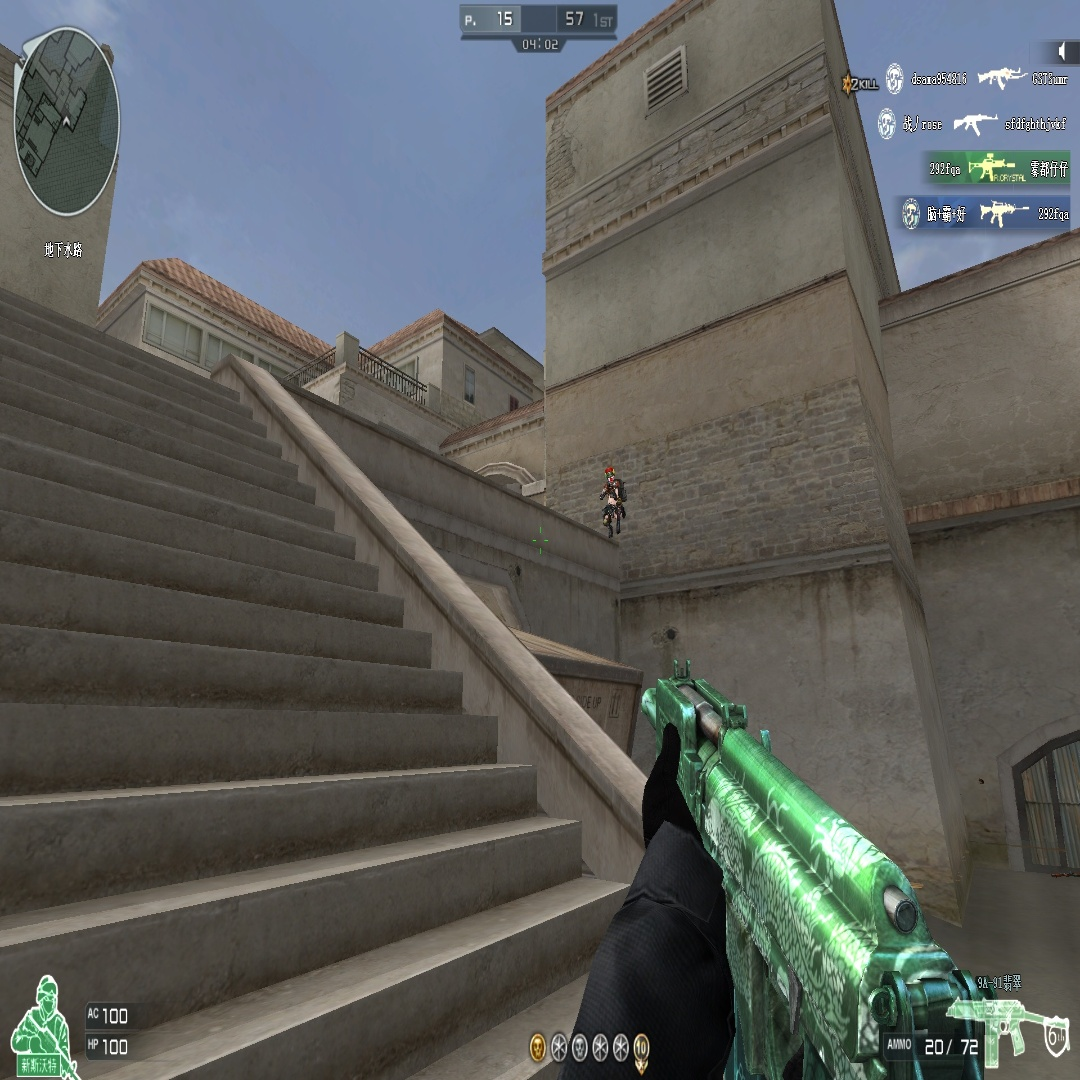head: (604, 467, 616, 483)
p: (602, 462, 625, 519)
